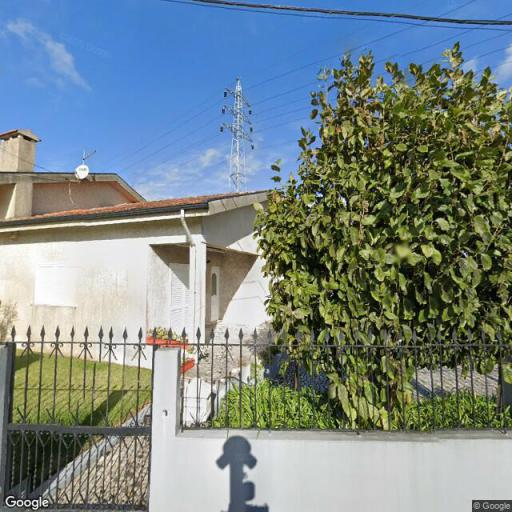ss_3: (220, 76, 254, 190)
